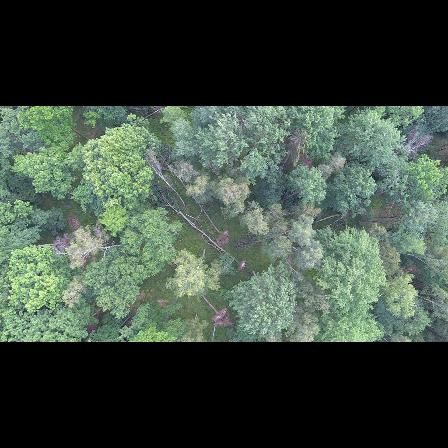Dead: (171, 204, 207, 240), (400, 125, 435, 158), (147, 149, 173, 183)
